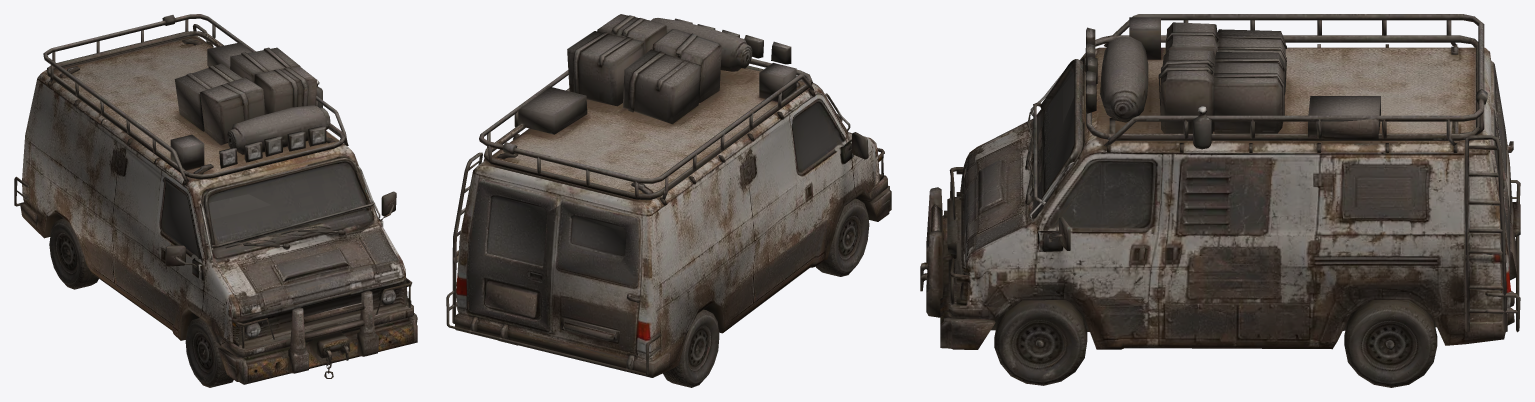
The model's file is danfo_realistic.glb.
The picture shows the model from 3 angles, left to right: view 1: azimuth 30°, elevation 25°; view 2: azimuth 150°, elevation 25°; view 3: azimuth 270°, elevation 25°; orthographic projection. The views are drawn at different scales.
Visible parts, largest first — view 1: tripo_node_1ba264bf-6217-4acd-ac1e-91c7c53c6d8d; view 2: tripo_node_1ba264bf-6217-4acd-ac1e-91c7c53c6d8d; view 3: tripo_node_1ba264bf-6217-4acd-ac1e-91c7c53c6d8d.
Part boxes in pixels (x1=…): tripo_node_1ba264bf-6217-4acd-ac1e-91c7c53c6d8d: x1=14, y1=14, x2=417, y2=387; tripo_node_1ba264bf-6217-4acd-ac1e-91c7c53c6d8d: x1=446, y1=14, x2=891, y2=387; tripo_node_1ba264bf-6217-4acd-ac1e-91c7c53c6d8d: x1=920, y1=14, x2=1520, y2=387.
Bounding box in the file's own units: 0.5684 × 0.5566 × 0.998.
1 material, 1 textured.
